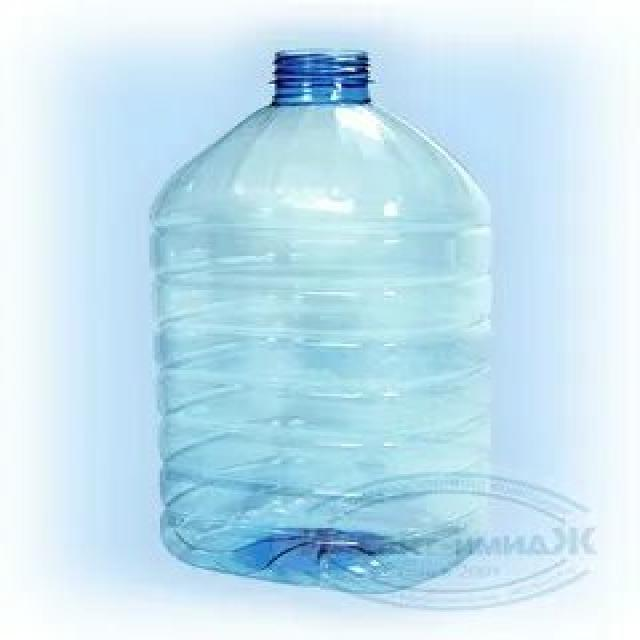blue: (151, 51, 489, 596)
